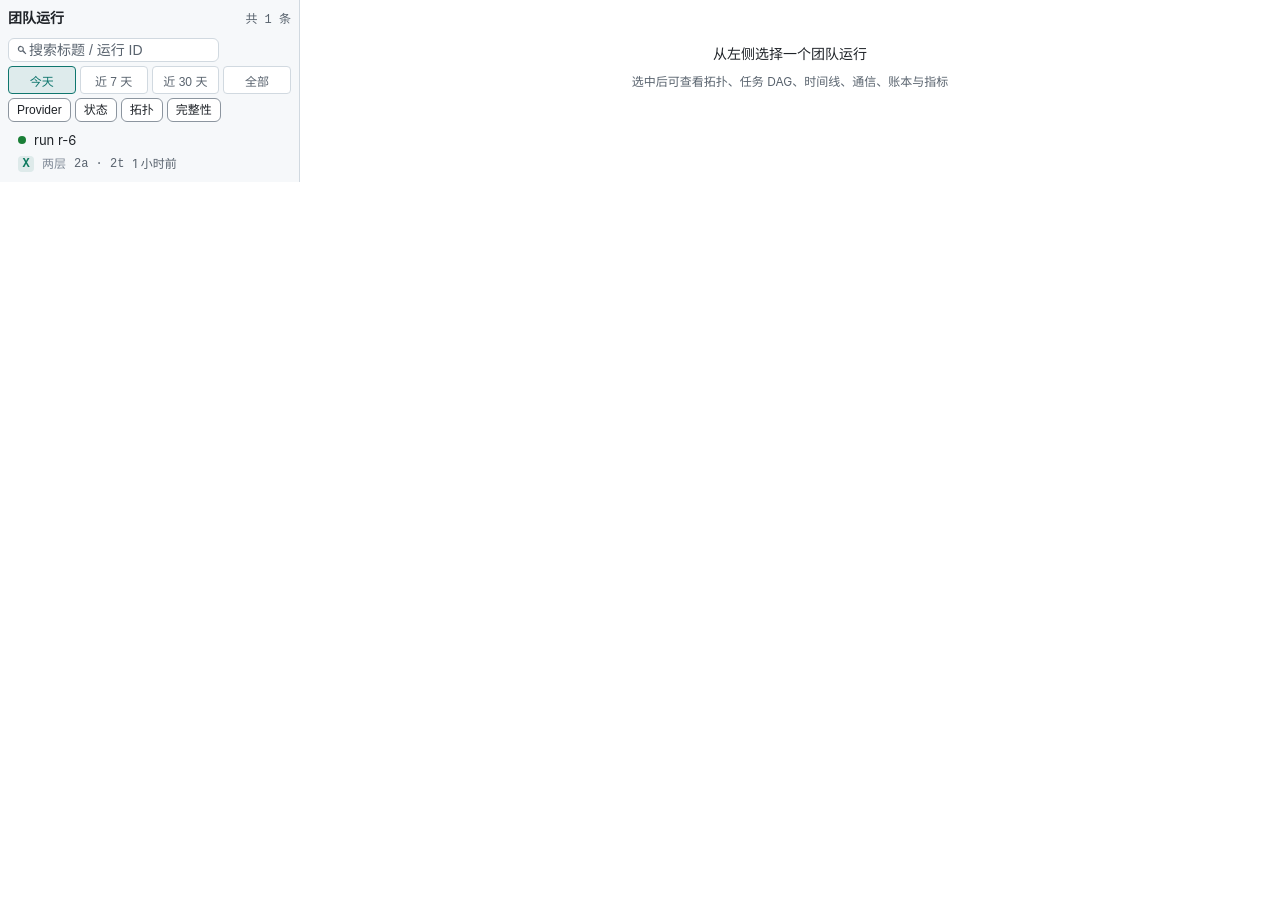
Test: TeamShell 七视图切换 › 七 tab 齐全 + 切换 panel
This screenshot has width=1280, height=900.
Click the option with class "team-row": (55, 140) [18,132,177,172]
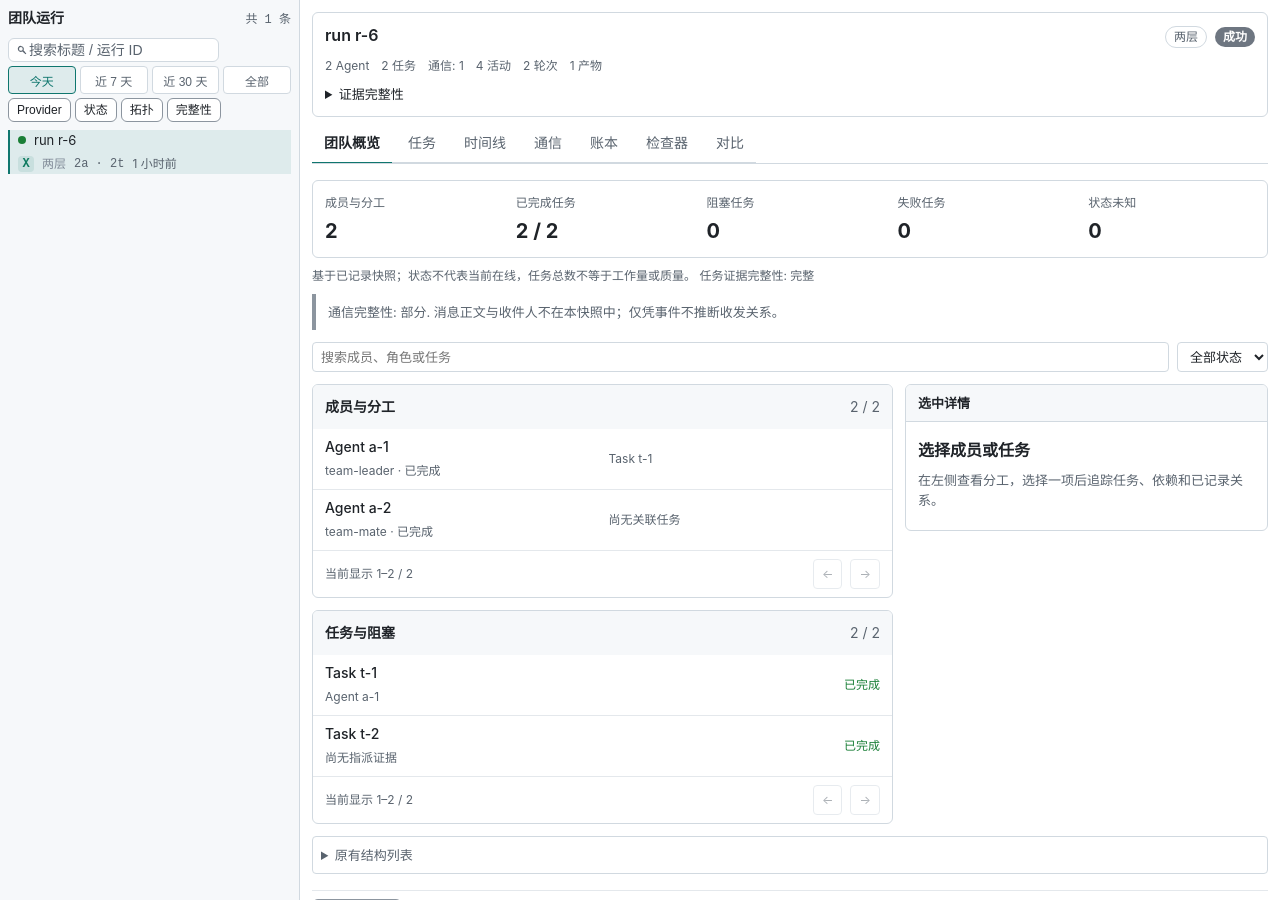
Expected: the number of tabs is 7
Expected: the element with class "team-workbench" is shown, [312,180,1268,836]
Expected: the button with class "tw-member" that starts with "Agent a-1" is shown, [313,429,892,490]
# 切到 tasks
Click the tab "任务": (422, 144) [396,125,448,163]
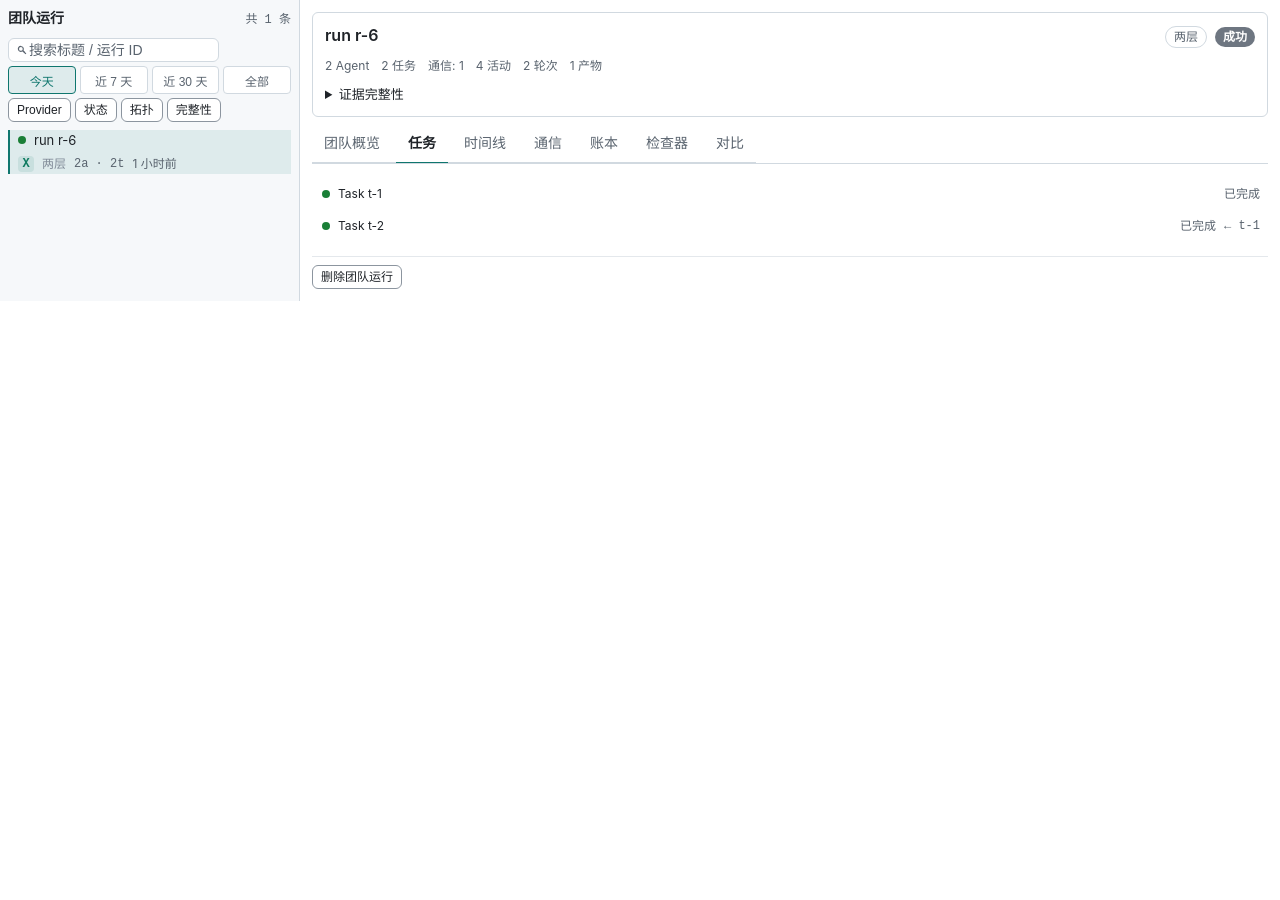
Expected: the list with class "team-tasks-panel" is shown, [312,180,1268,240]
# 切到 ledger
Click the tab "账本": (604, 144) [578,125,630,163]
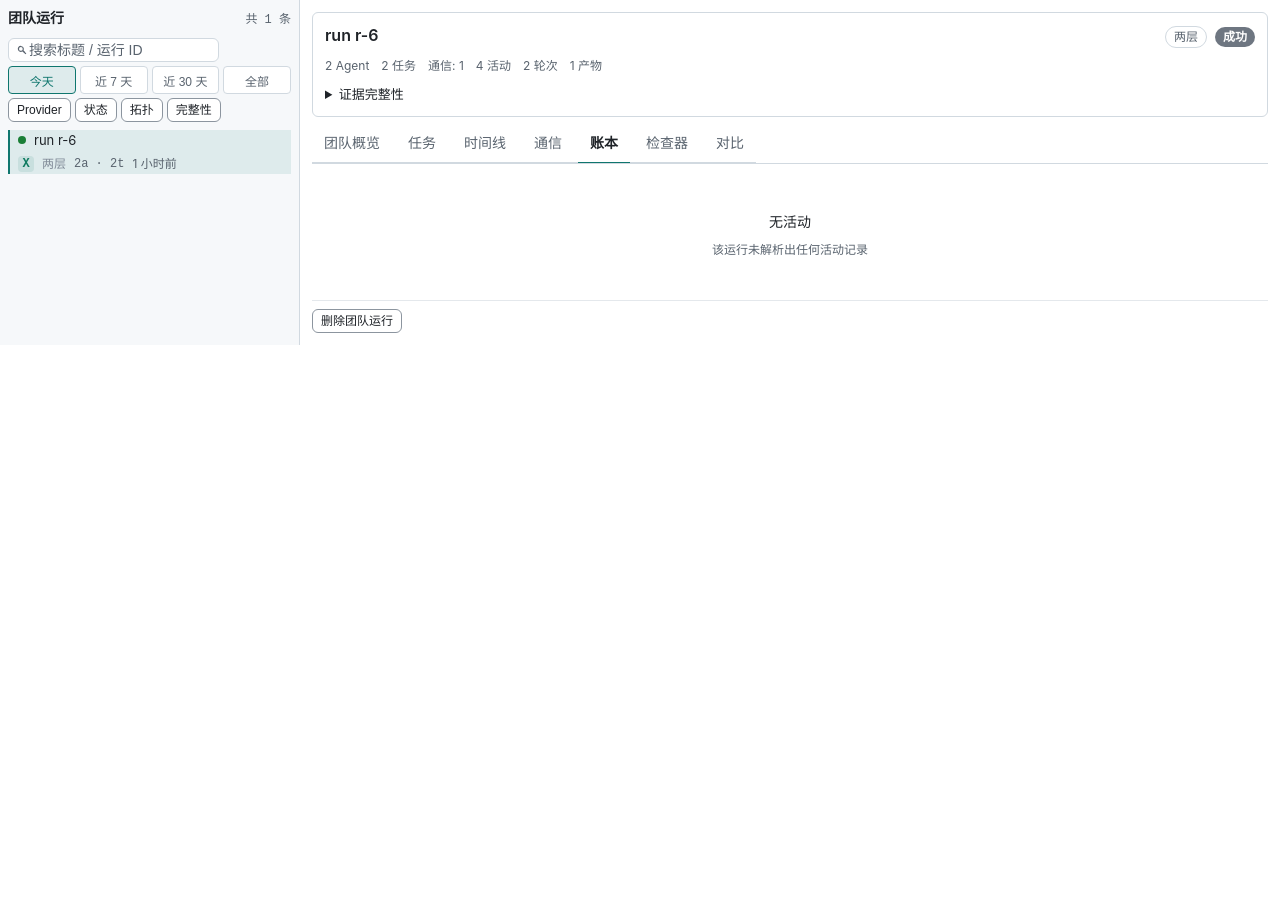
Expected: the element with class "team-ledger-panel" is shown, [712,213,868,257]
# 切到 compare
Click the tab "对比": (730, 144) [704,125,756,163]
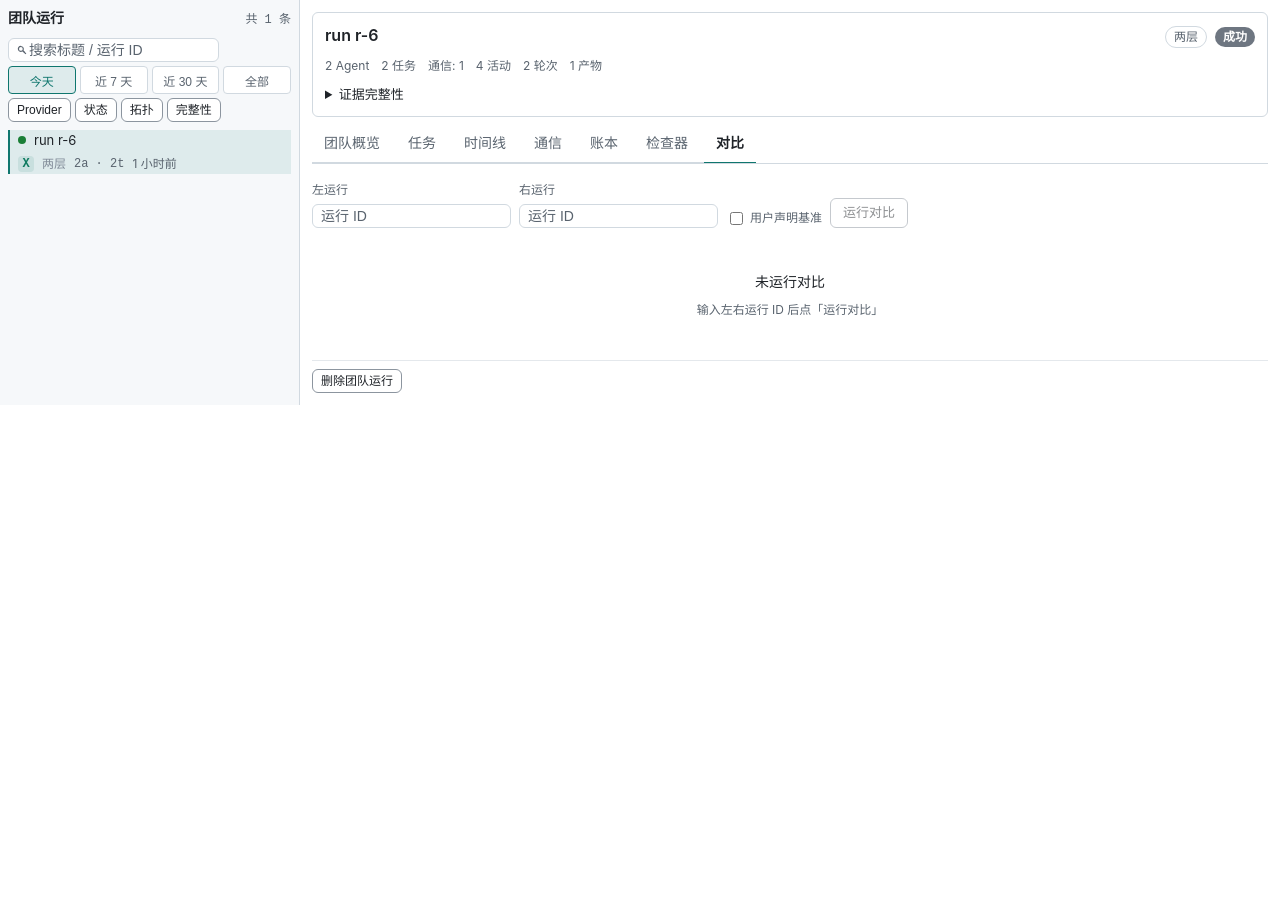
Expected: the element with class "team-compare-panel" is shown, [312,182,908,317]
